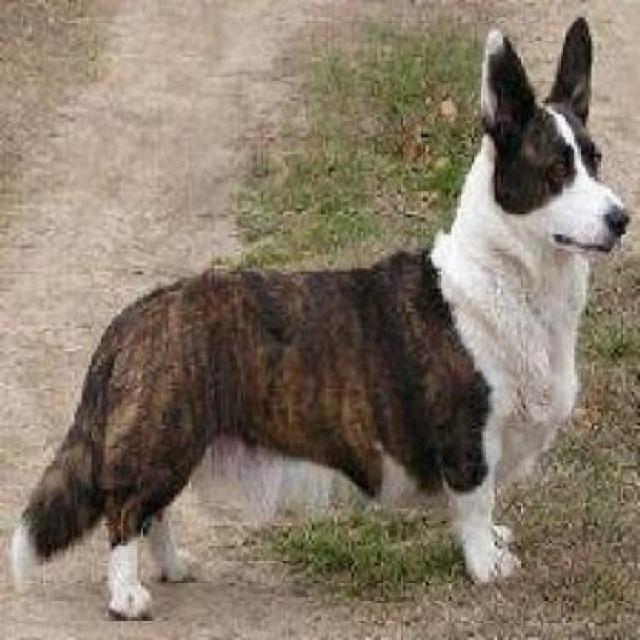Dog: (9, 17, 634, 629)
